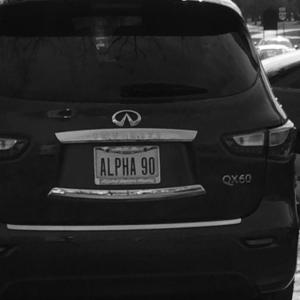Plate: (94, 145, 160, 185)
